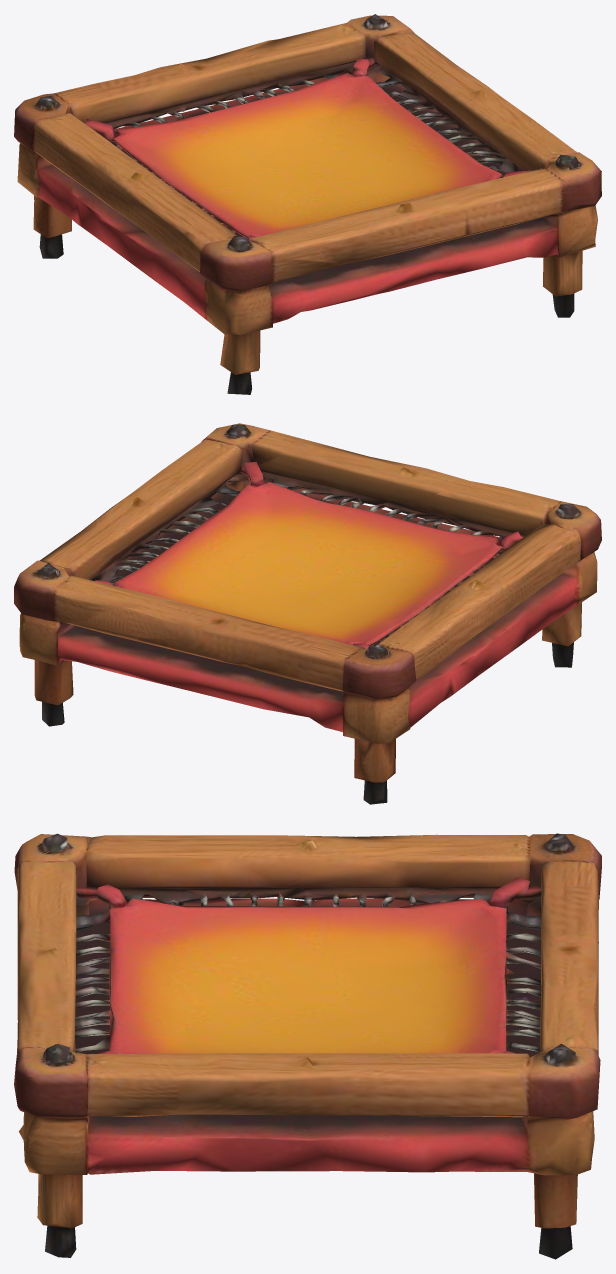
File: trampoline.glb
The picture shows the model from 3 angles, top to bottom: view 1: azimuth 30°, elevation 25°; view 2: azimuth 150°, elevation 25°; view 3: azimuth 270°, elevation 25°; orthographic projection. The views are drawn at different scales.
Parts seen in each view (by area): view 1: tripo_node_384c39aa-f769-4690-917b-f0cf76392935; view 2: tripo_node_384c39aa-f769-4690-917b-f0cf76392935; view 3: tripo_node_384c39aa-f769-4690-917b-f0cf76392935.
Part boxes in pixels (x1,y1,x2,y2): tripo_node_384c39aa-f769-4690-917b-f0cf76392935: (14, 14, 601, 394); tripo_node_384c39aa-f769-4690-917b-f0cf76392935: (14, 423, 601, 804); tripo_node_384c39aa-f769-4690-917b-f0cf76392935: (14, 833, 601, 1259).
Size of the model in its own units: 0.995 by 0.3939 by 1.
Materials: 1 (1 with a texture image).
